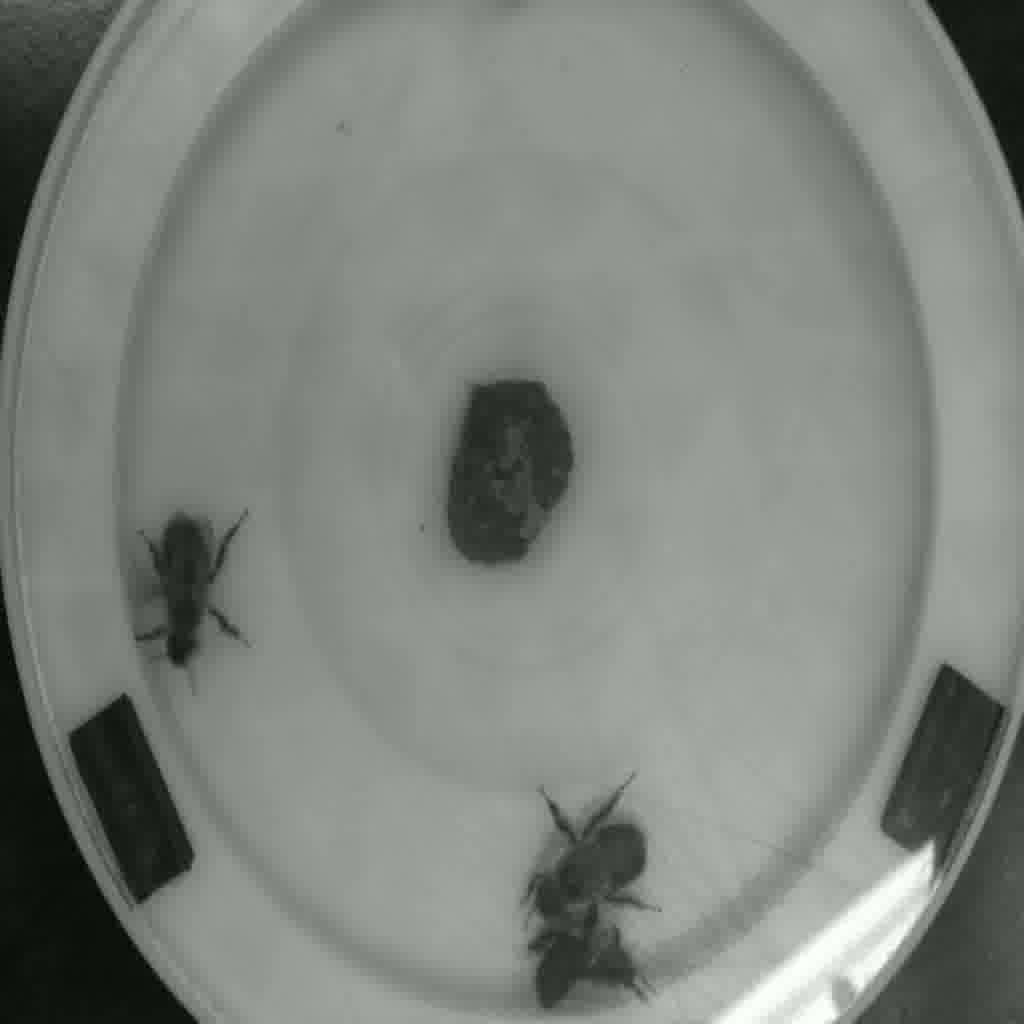bee: (122, 501, 247, 686), (507, 796, 671, 914), (501, 917, 671, 1013)
